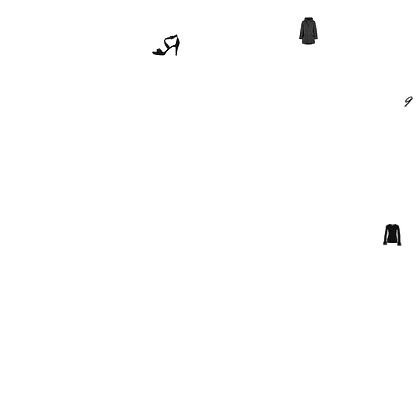9: (401, 94, 415, 108)
Coat: (294, 17, 322, 45)
Pullover: (381, 224, 403, 246)
Sandal: (152, 31, 180, 59)
